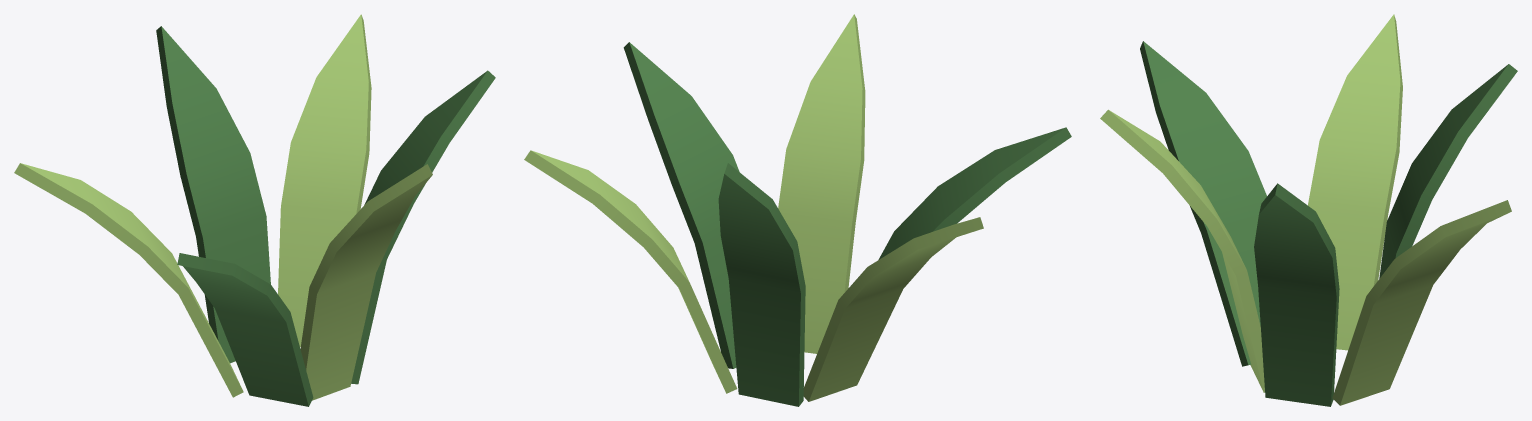
File: Herbe_05.fbx
3 renders of one model, left to right at view 1: azimuth 30°, elevation 25°; view 2: azimuth 150°, elevation 25°; view 3: azimuth 270°, elevation 25°, orthographic. The views are drawn at different scales.
Visible parts, largest first — view 1: Herbe_05; view 2: Herbe_05; view 3: Herbe_05.
Part boxes in pixels (x1,y1,x2,y2): Herbe_05: (14, 14, 495, 406); Herbe_05: (524, 14, 1071, 406); Herbe_05: (1100, 14, 1517, 406).
Size of the model in its own units: 48.27 by 31.96 by 40.6.
Materials: 1 (1 with a texture image).
